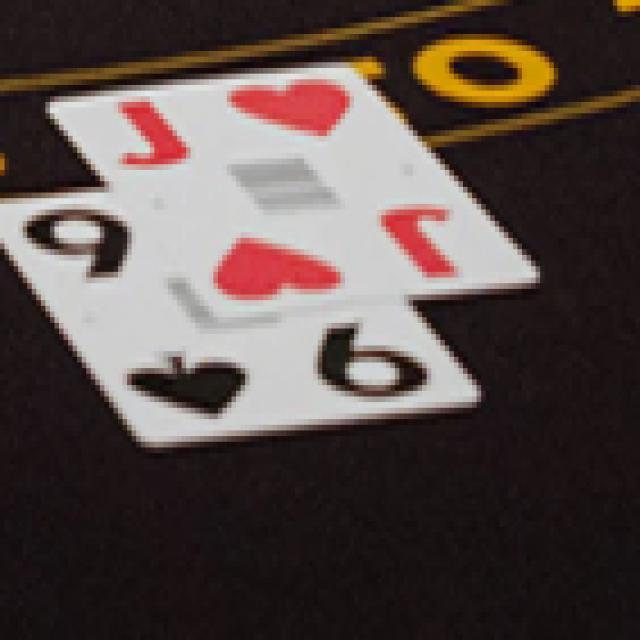Card-9: (0, 190, 482, 448)
Card-J: (47, 62, 541, 319)
